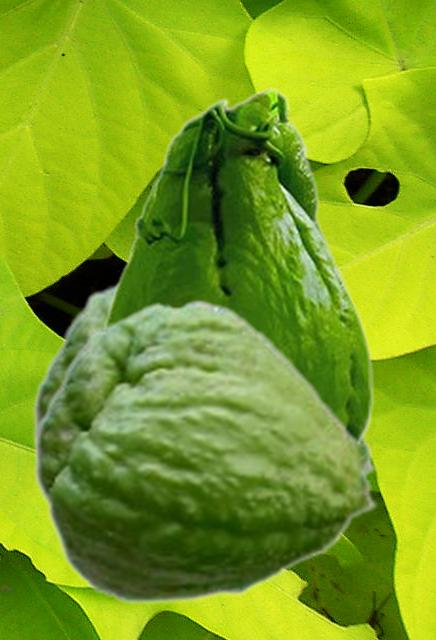sayote: (33, 298, 379, 605), (99, 87, 374, 441), (32, 278, 378, 477)
